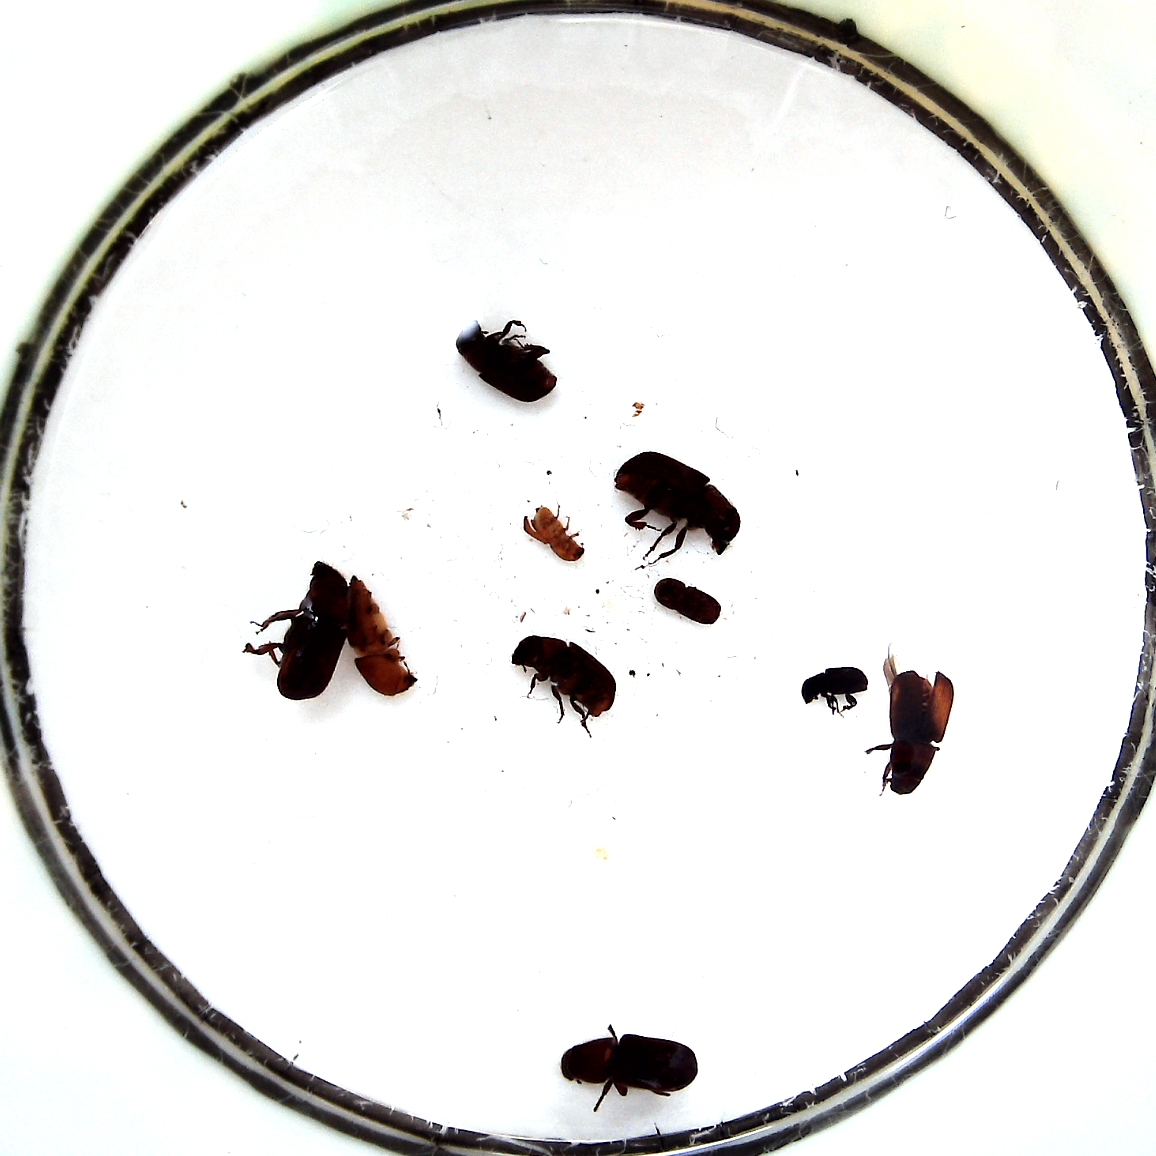Boerner: (348, 573, 421, 702)
Leconte: (615, 448, 739, 566), (245, 563, 348, 702), (871, 656, 959, 802), (560, 1025, 700, 1116), (508, 630, 617, 737), (452, 319, 559, 407)
Linnaeus: (651, 578, 723, 625)
acuminatus: (517, 502, 585, 566)
armandi: (795, 665, 870, 720)
